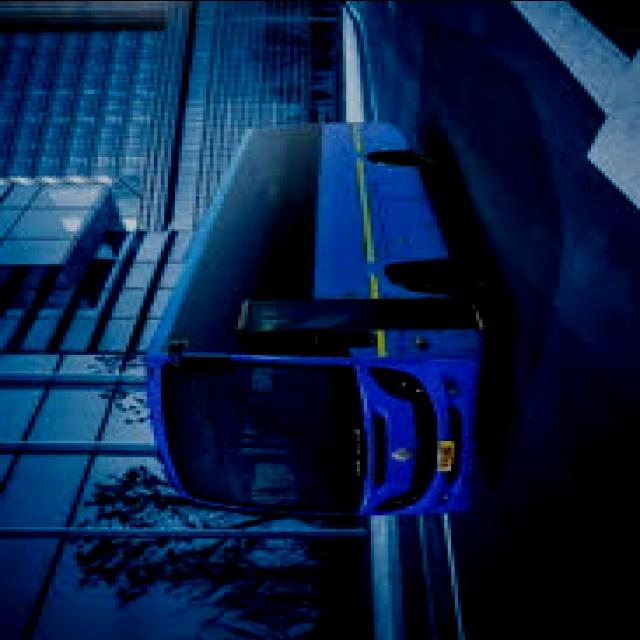bus: (134, 105, 503, 529)
